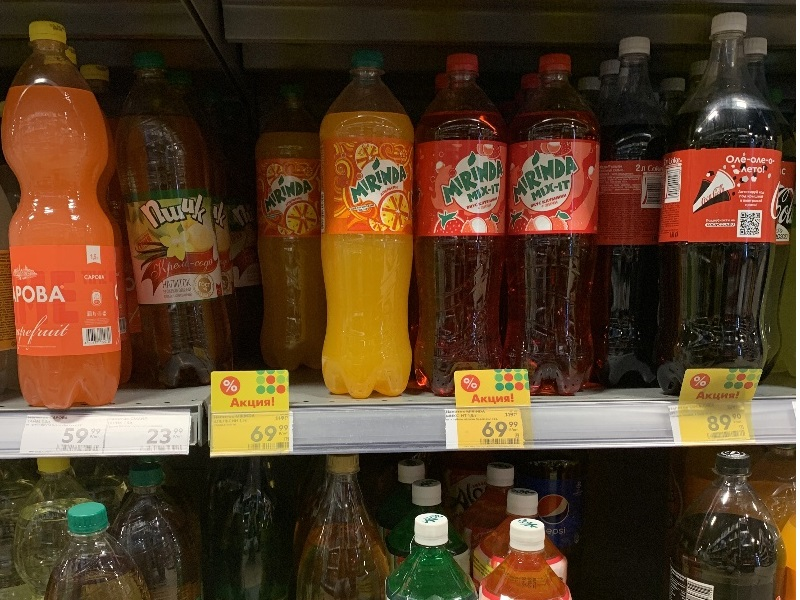lemonade: (654, 8, 790, 397), (2, 20, 128, 413), (304, 47, 417, 406), (500, 53, 603, 406), (408, 51, 517, 374)
